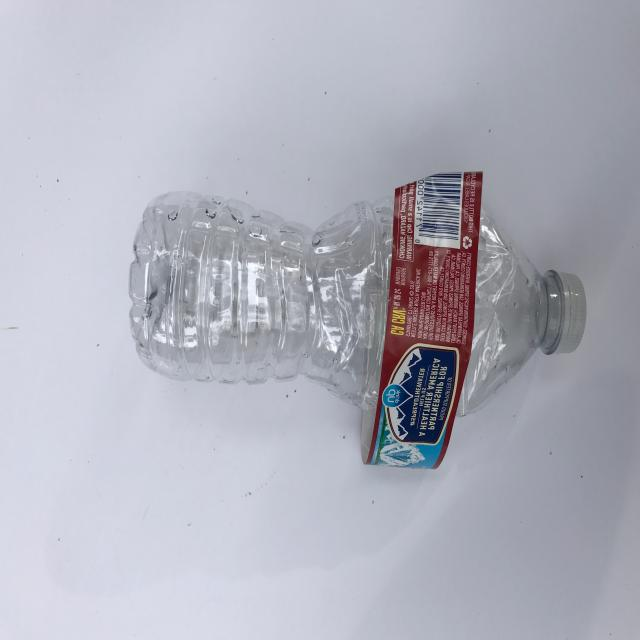plastic: (128, 174, 586, 467)
